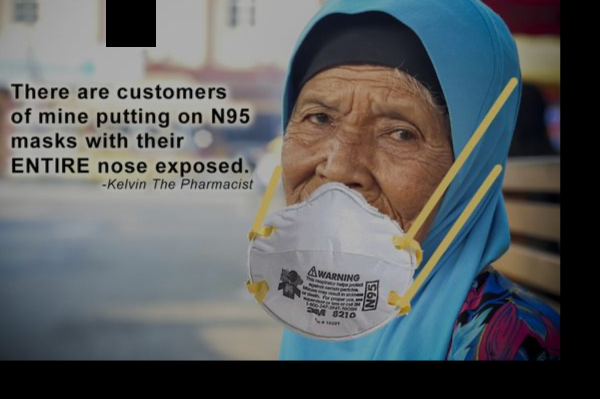mask_weared_incorrect: (279, 89, 446, 268)
